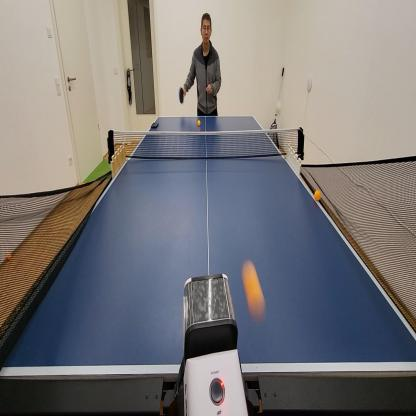Ball: (241, 257, 268, 320), (274, 101, 282, 116), (314, 188, 321, 202), (6, 251, 13, 261), (197, 119, 201, 127)
